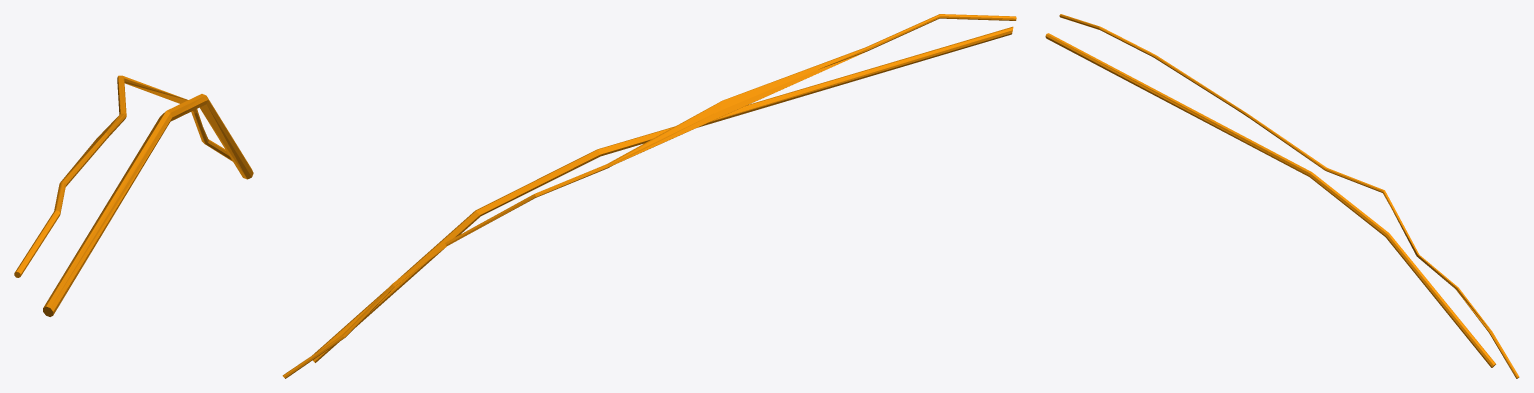
3 views of the same model, side by side, from view 1: azimuth 30°, elevation 25°; view 2: azimuth 150°, elevation 25°; view 3: azimuth 270°, elevation 25° (orthographic). The views are drawn at different scales.
Visible parts, largest first — view 1: group_1041283119, group_681922313; view 2: group_681922313, group_1041283119; view 3: group_1041283119, group_681922313.
Part boxes in pixels (<box>): group_1041283119: <box>43,94,253,316</box>; group_681922313: <box>14,75,232,277</box>; group_681922313: <box>282,14,1016,378</box>; group_1041283119: <box>313,26,1013,362</box>; group_1041283119: <box>1045,33,1495,367</box>; group_681922313: <box>1059,14,1519,378</box>.
Size of the model in its own units: 15.82 by 9 by 18.88.
